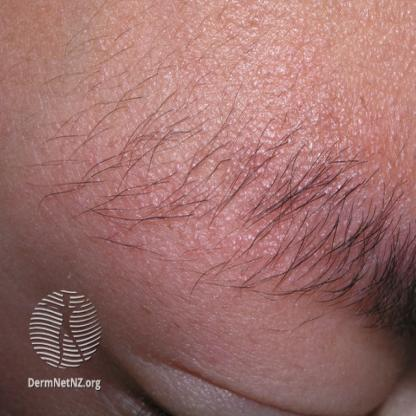Chicken Skin: (84, 1, 416, 283)
